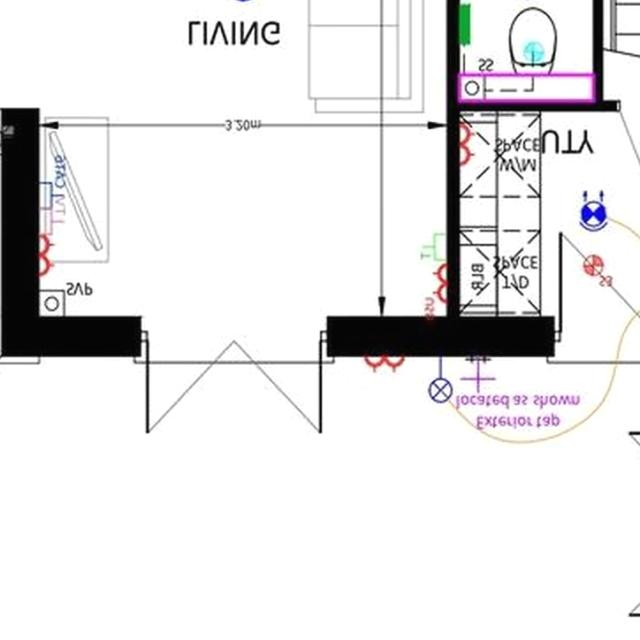Cat 6 Data Socket: (40, 154, 68, 210)
Ceiling Mounted Continuous Extract FanWith Boost Mode Activated By Light Switch: (522, 45, 543, 63)
Ceiling Mounted Continuous Extract FanWith Local Boost Switch: (582, 256, 611, 288)
Co-Ax TV Socket: (37, 199, 68, 234)
Double Socket: (457, 125, 475, 165), (37, 236, 53, 277), (364, 358, 403, 373)
External Wall Light: (427, 357, 451, 404)
Low Energy Downlighter: (578, 192, 607, 232)
Outside Tap: (456, 357, 498, 394)
Radiator: (459, 5, 470, 47)
Telephone Socket: (420, 232, 445, 264)
USB Double Socket: (424, 264, 446, 319)
